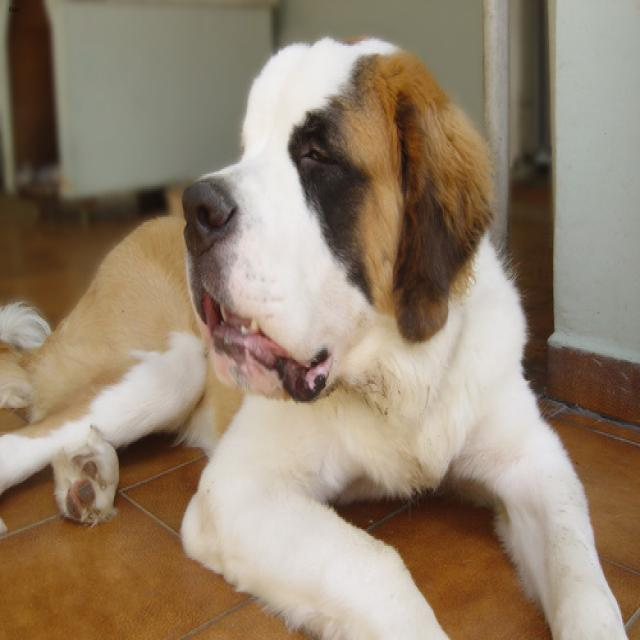dog-saint_bernard: (1, 22, 634, 637)
